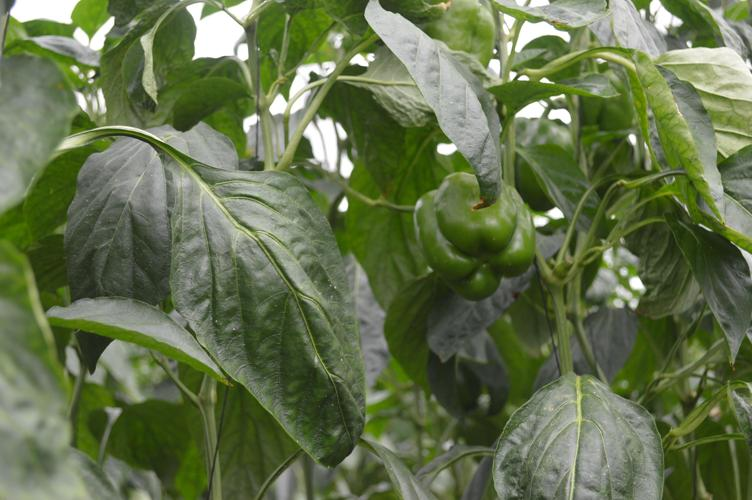BellPepper: (409, 172, 533, 293), (422, 1, 501, 66), (576, 79, 643, 130)
